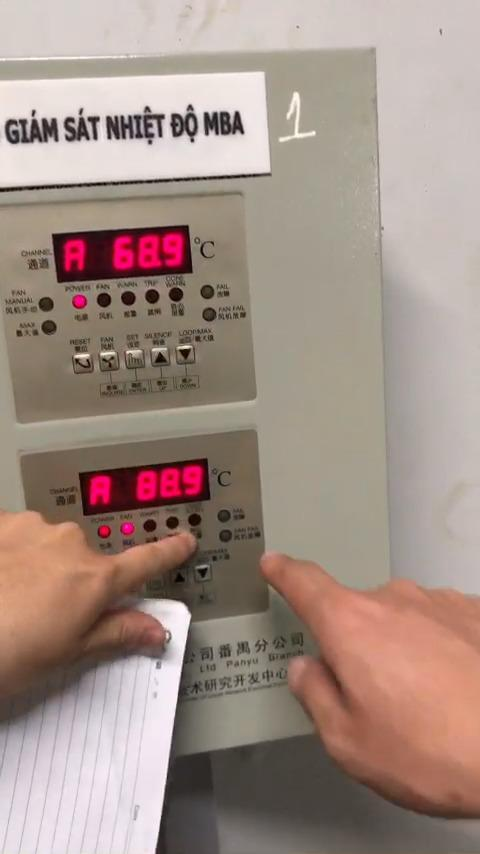led: (38, 295, 55, 312), (199, 284, 216, 300), (144, 289, 161, 305), (42, 320, 58, 336), (169, 287, 184, 303), (120, 291, 136, 306), (72, 294, 88, 309), (202, 306, 217, 322), (142, 518, 158, 533), (97, 292, 112, 307), (120, 522, 135, 537), (165, 515, 179, 531), (97, 525, 112, 539), (218, 529, 233, 543), (217, 509, 231, 523), (188, 513, 202, 527)
